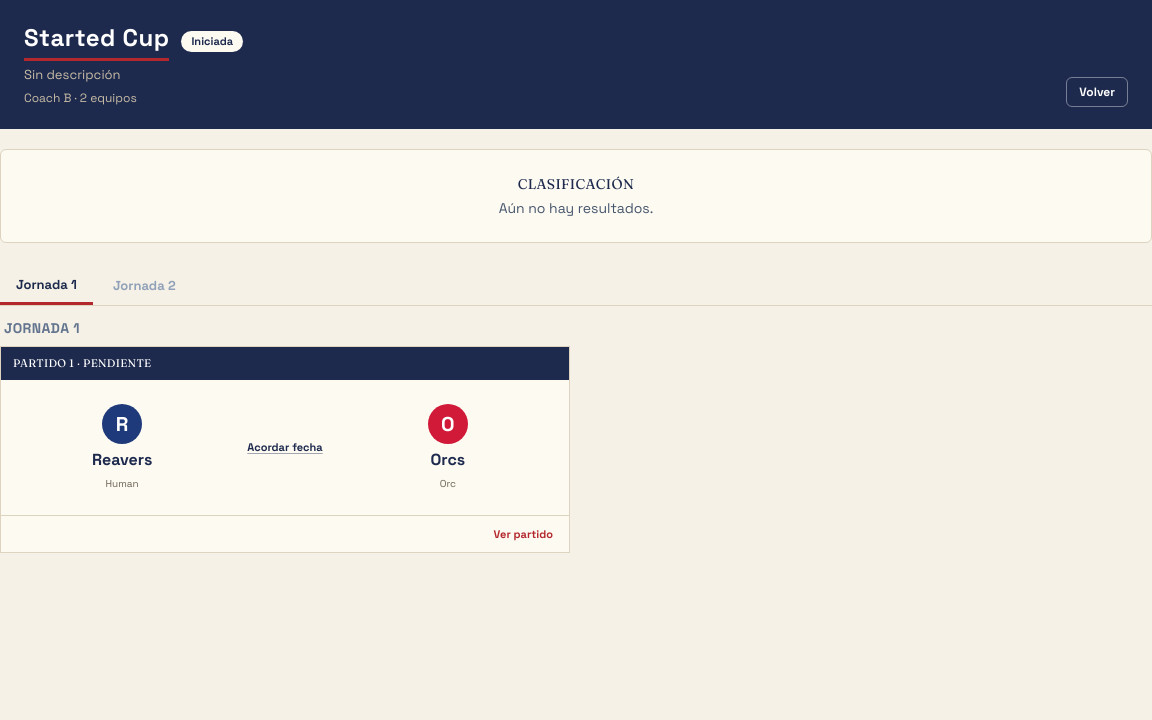
LeagueDetail — STARTED league › opens the participant negotiation panel when a participant clicks a card
The width and height of the screenshot is (1152, 720).
Expected: the element named "Jornada 1" is shown, [0,346,570,553]
Click the button "Acordar fecha".
click(285, 447)  # box [239,435,331,459]
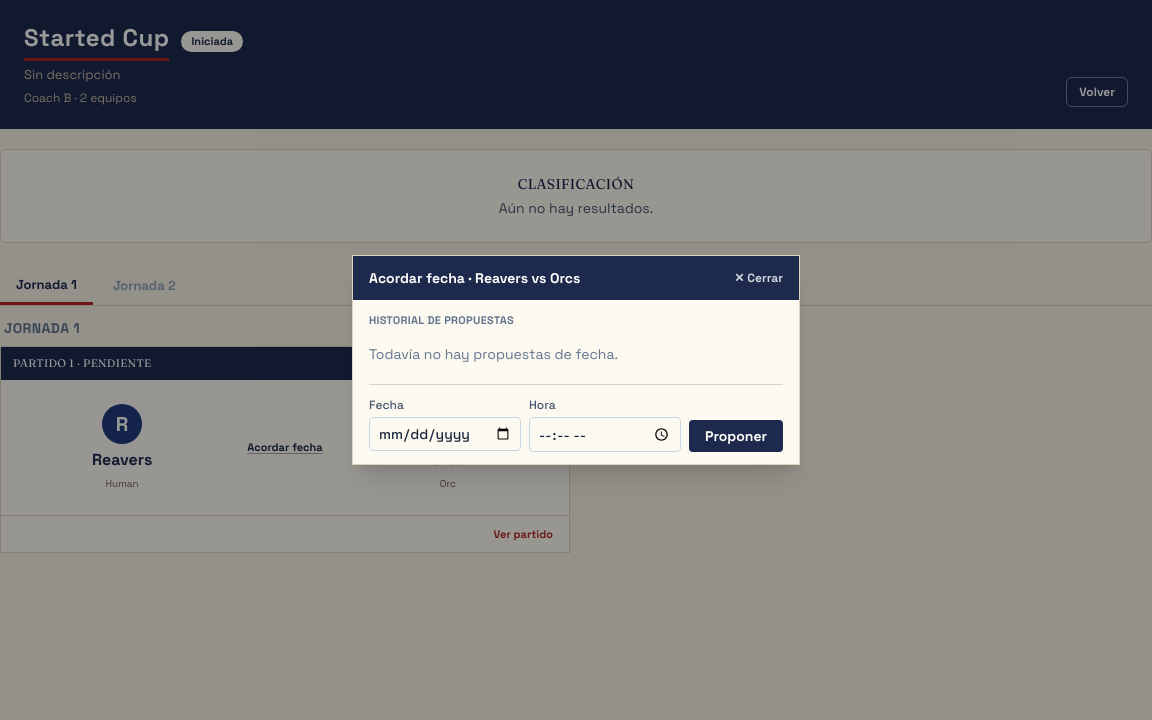
Now the dialog "Acordar fecha" is shown
Now the button "Proponer" is shown, box [689,420,783,452]
Now the date field named "Fecha propuesta" is shown, box [369,417,521,451]
